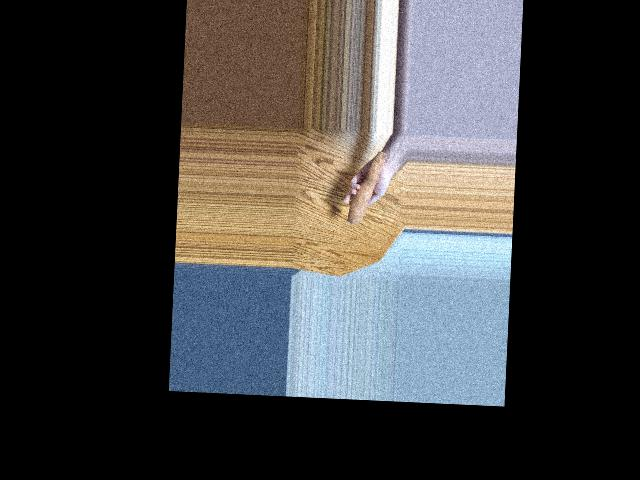sweet_potato: (345, 147, 388, 226)
